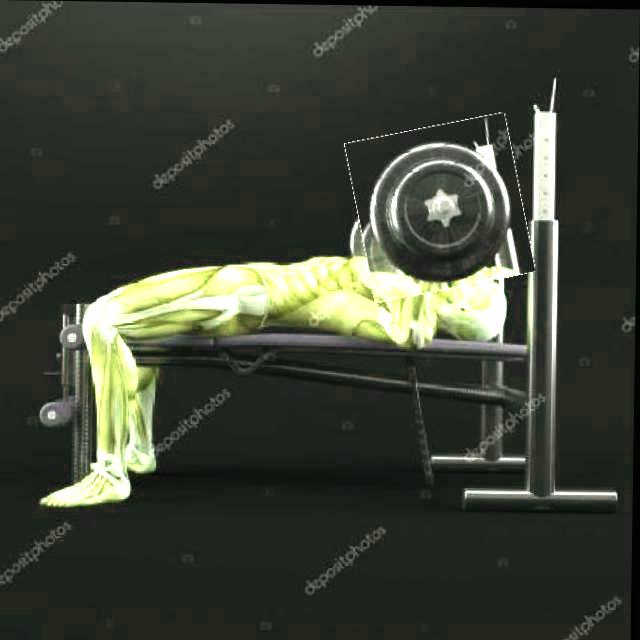barbell: (350, 118, 530, 297)
